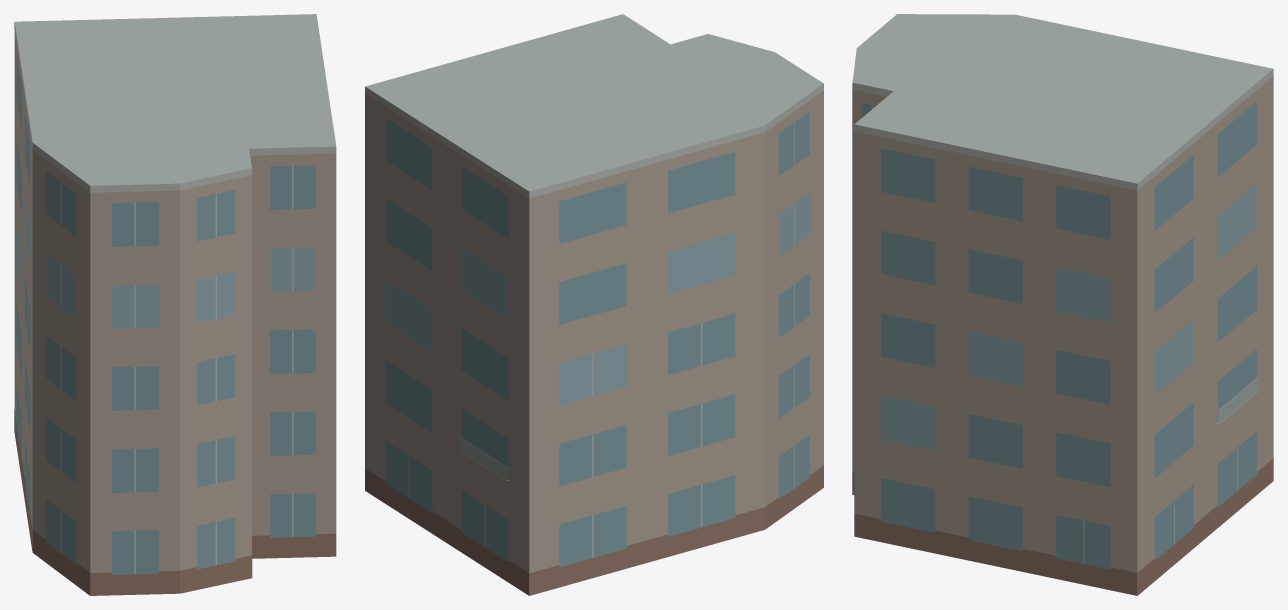
The model's file is survey-upis-32789653.glb.
The picture shows the model from 3 angles, left to right: view 1: azimuth 30°, elevation 25°; view 2: azimuth 150°, elevation 25°; view 3: azimuth 270°, elevation 25°; orthographic projection.
Visible parts, largest first — view 1: survey-upis-32789653.tmp; view 2: survey-upis-32789653.tmp; view 3: survey-upis-32789653.tmp.
Boxes of the visible parts, x1,y1,x2,y2 form: survey-upis-32789653.tmp: (14, 14, 336, 595); survey-upis-32789653.tmp: (365, 14, 823, 595); survey-upis-32789653.tmp: (852, 14, 1273, 595).
Size of the model in its own units: 12.81 by 14.5 by 13.44.
